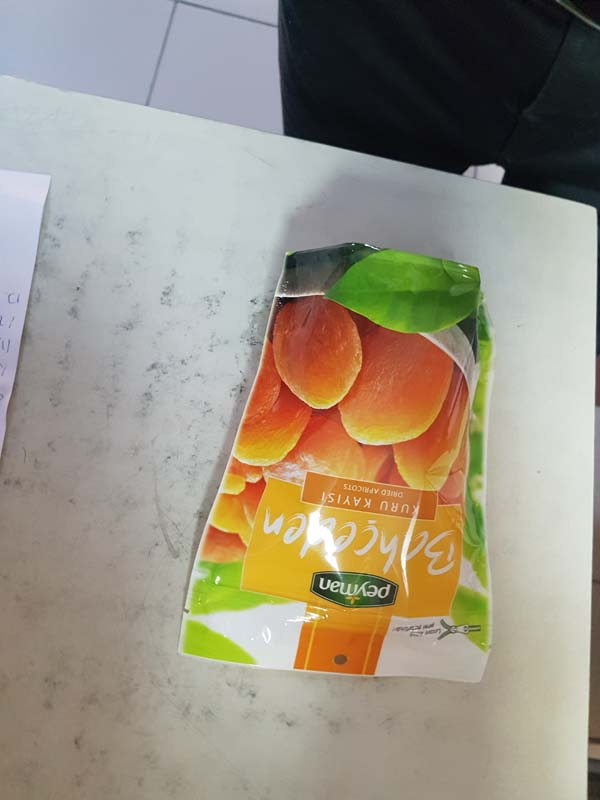bahcedenkurukayisi: (181, 243, 494, 681)
